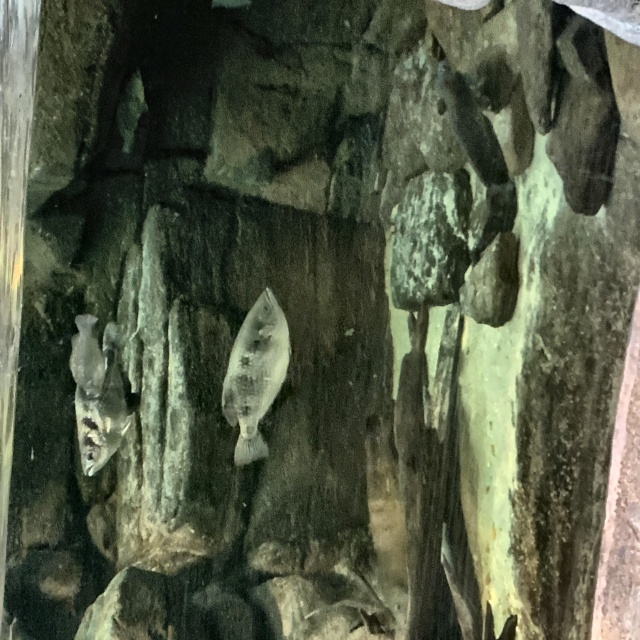fish: (219, 285, 293, 471), (74, 318, 134, 480), (69, 311, 108, 403)
